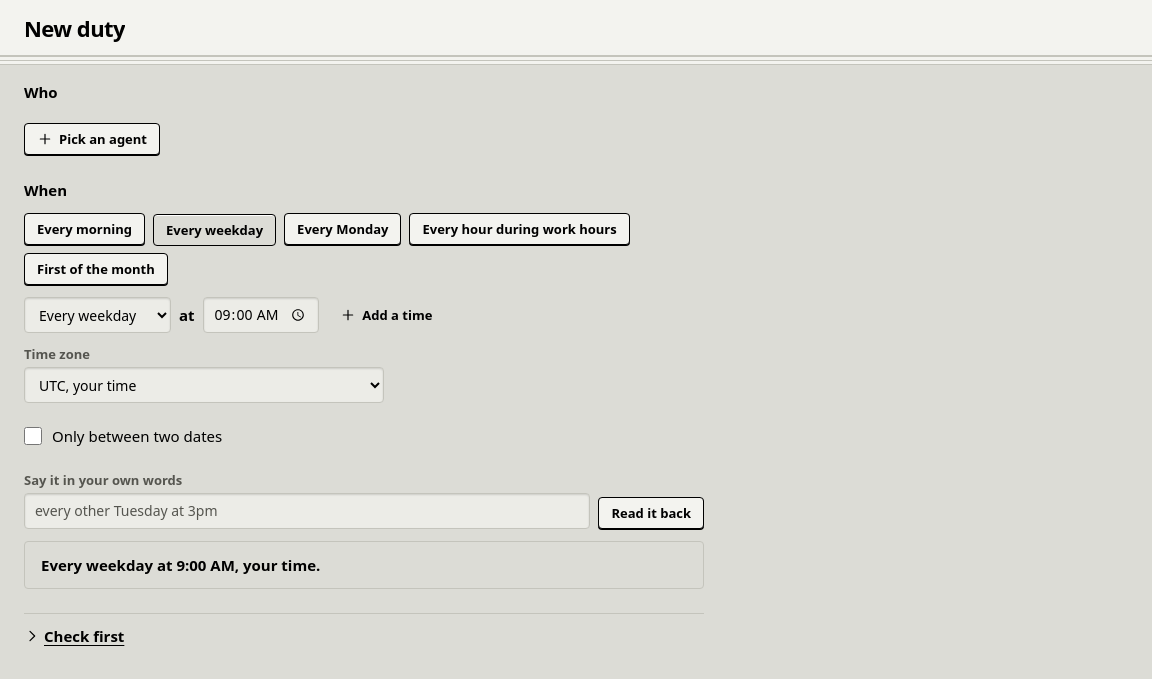
Test case: the editor of a duty › hides the readback of the sentence while the words of the box hold a problem
Type "twice a day" into the field labelled "Say it in your own words" at (307, 511), box [24,493,590,529]
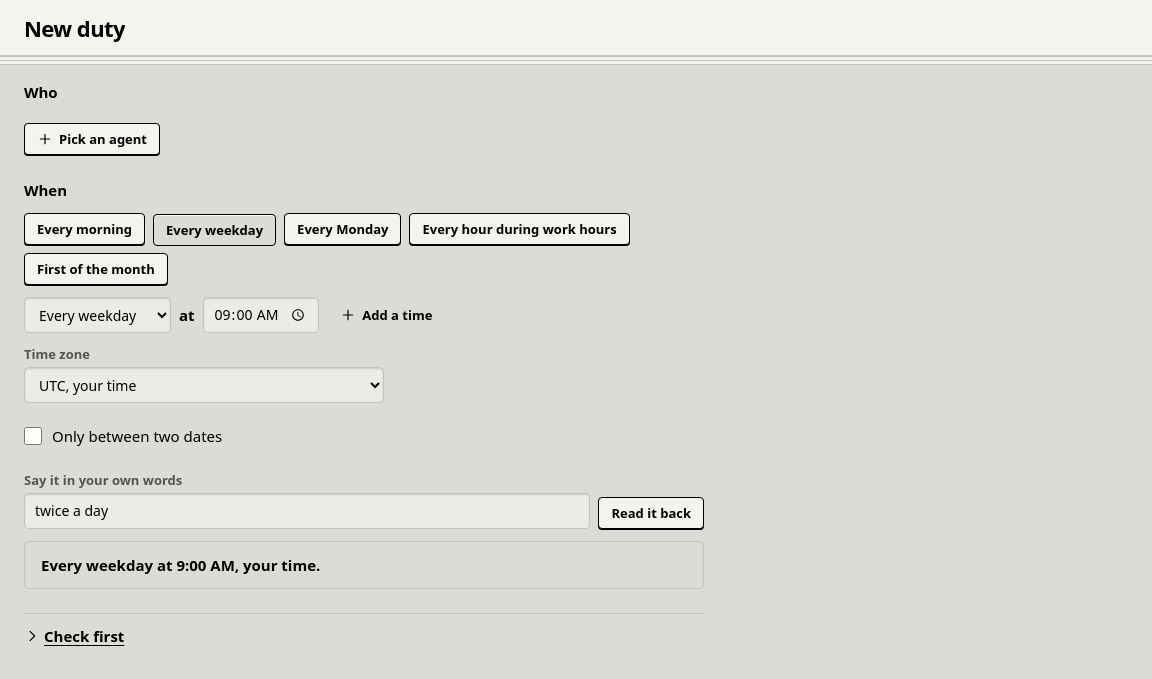
Click the button "Read it back" at (651, 513), box [598,497,704,529]
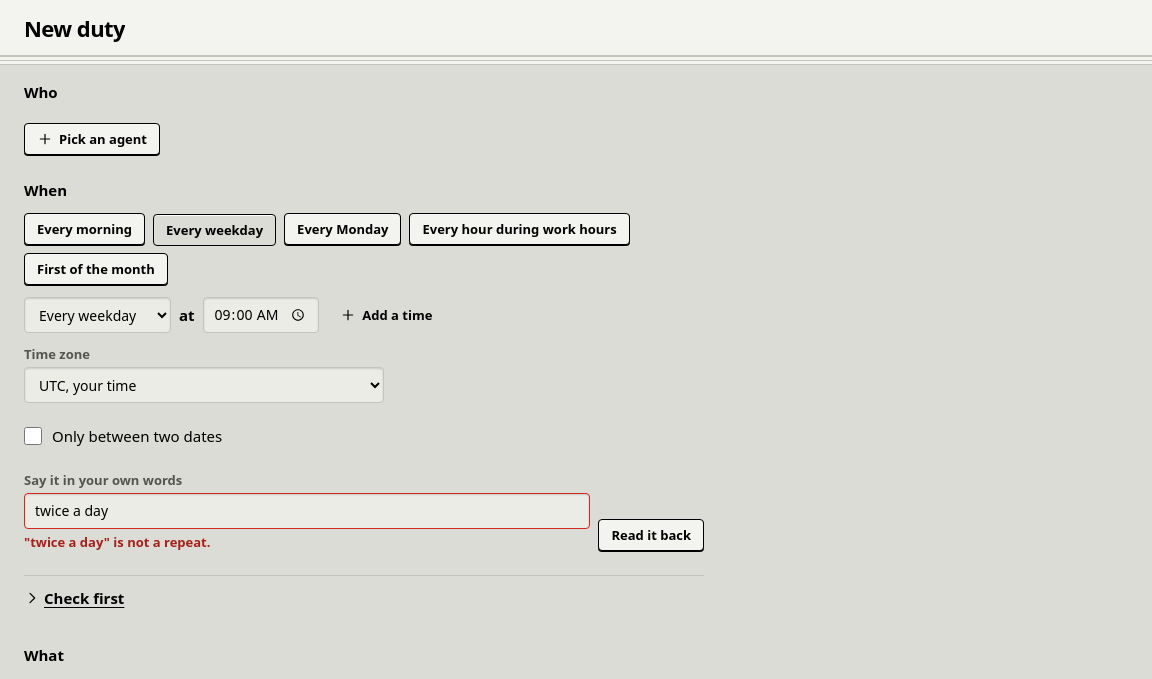
Expected: the message with class "field-error" reads "\"twice a day\" is not a repeat.", [24,533,210,551]
Expected: the element with class "duty-readback-box" is gone
Replace the text in the field labelled "Say it in your own words \"twice a day\" is not a repeat." with "twice a d" at (307, 511), box [24,493,590,529]
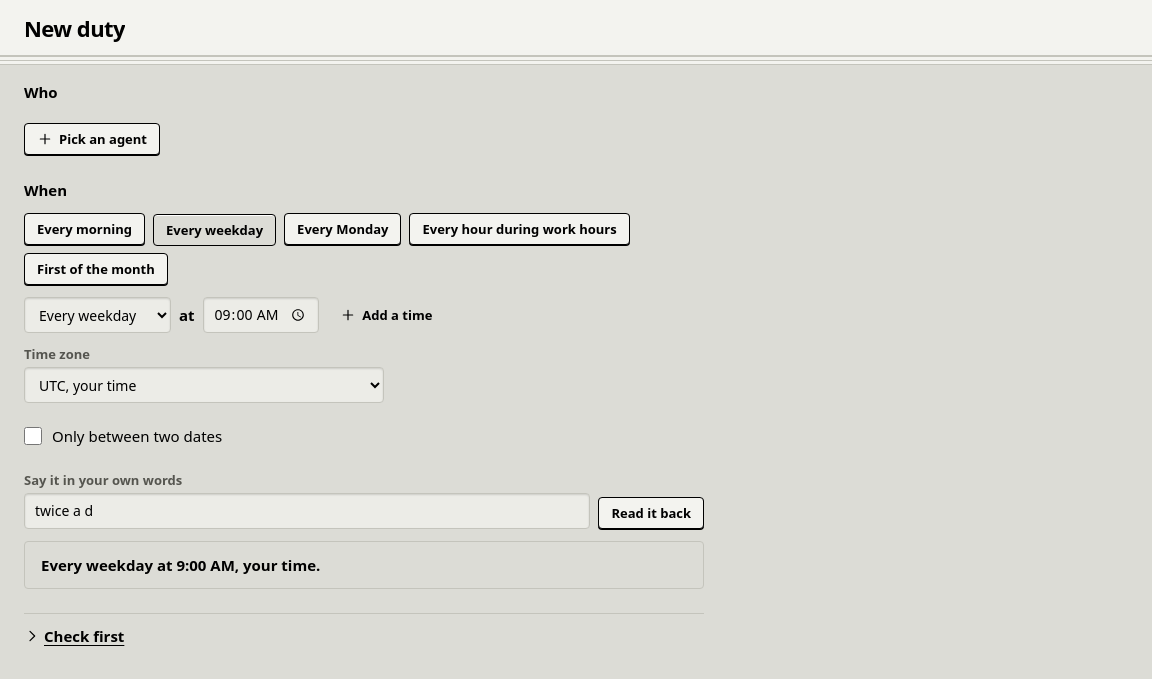
Expected: the text "Every weekday at 9:00 AM, your time." is shown, [41,555,320,575]
